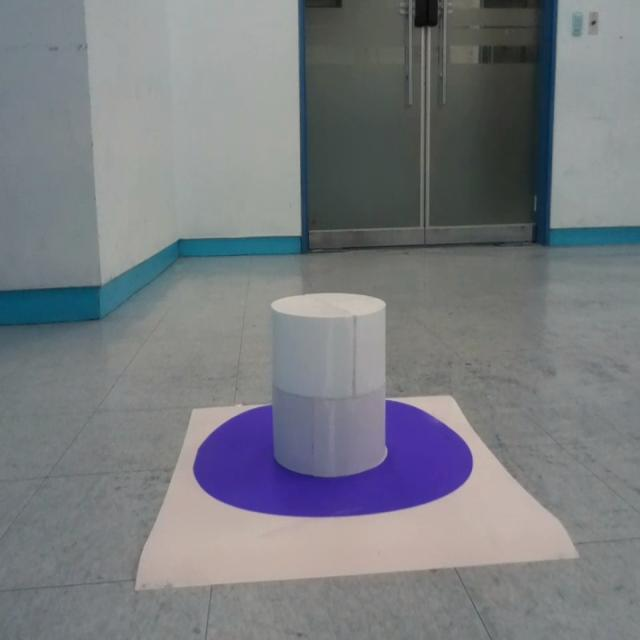cylinder: (270, 292, 388, 478)
